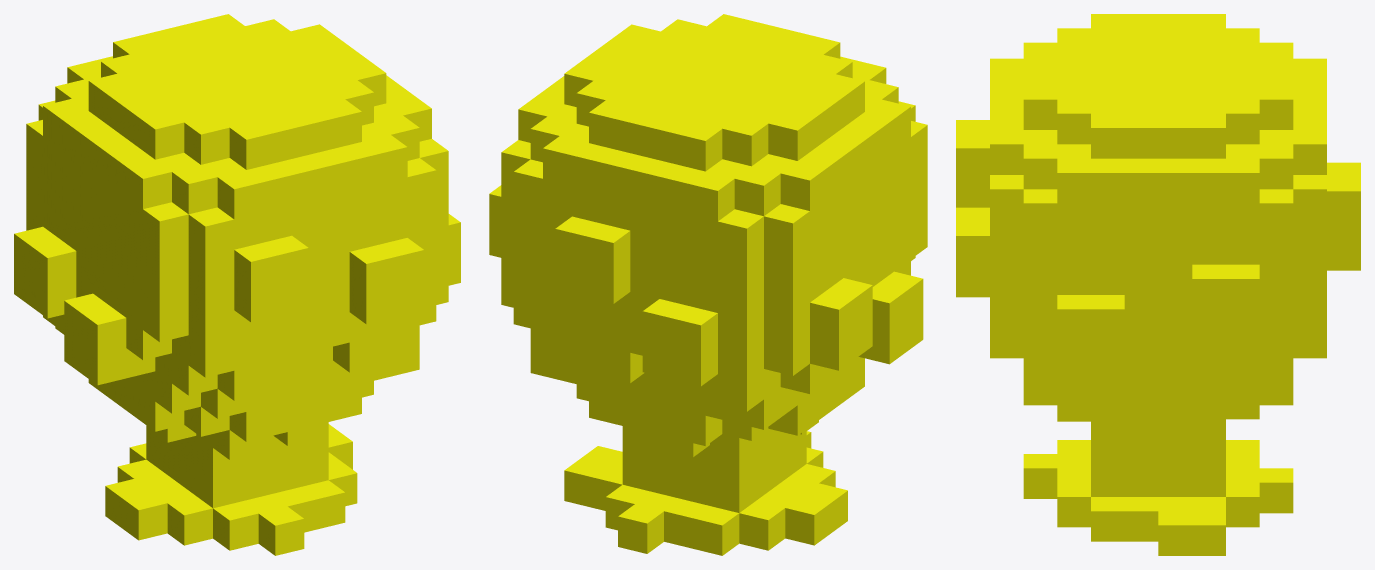
File: voxel-wizards-bush.glb
3 views of the same model, side by side, from view 1: azimuth 30°, elevation 25°; view 2: azimuth 150°, elevation 25°; view 3: azimuth 270°, elevation 25° (orthographic).
Visible parts, largest first — view 1: ObjObject; view 2: ObjObject; view 3: ObjObject.
Part boxes in pixels (x1,y1,x2,y2): ObjObject: (14,14,460,555); ObjObject: (489,14,927,555); ObjObject: (956,14,1360,555).
Size of the model in its own units: 1.2 by 1.4 by 1.2.
